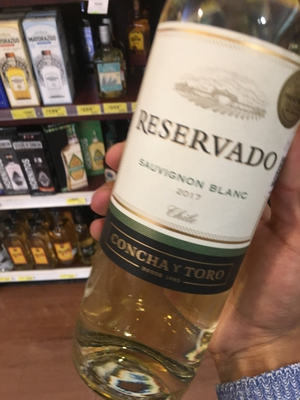reservado sauvignon blanc: (110, 4, 300, 381)
